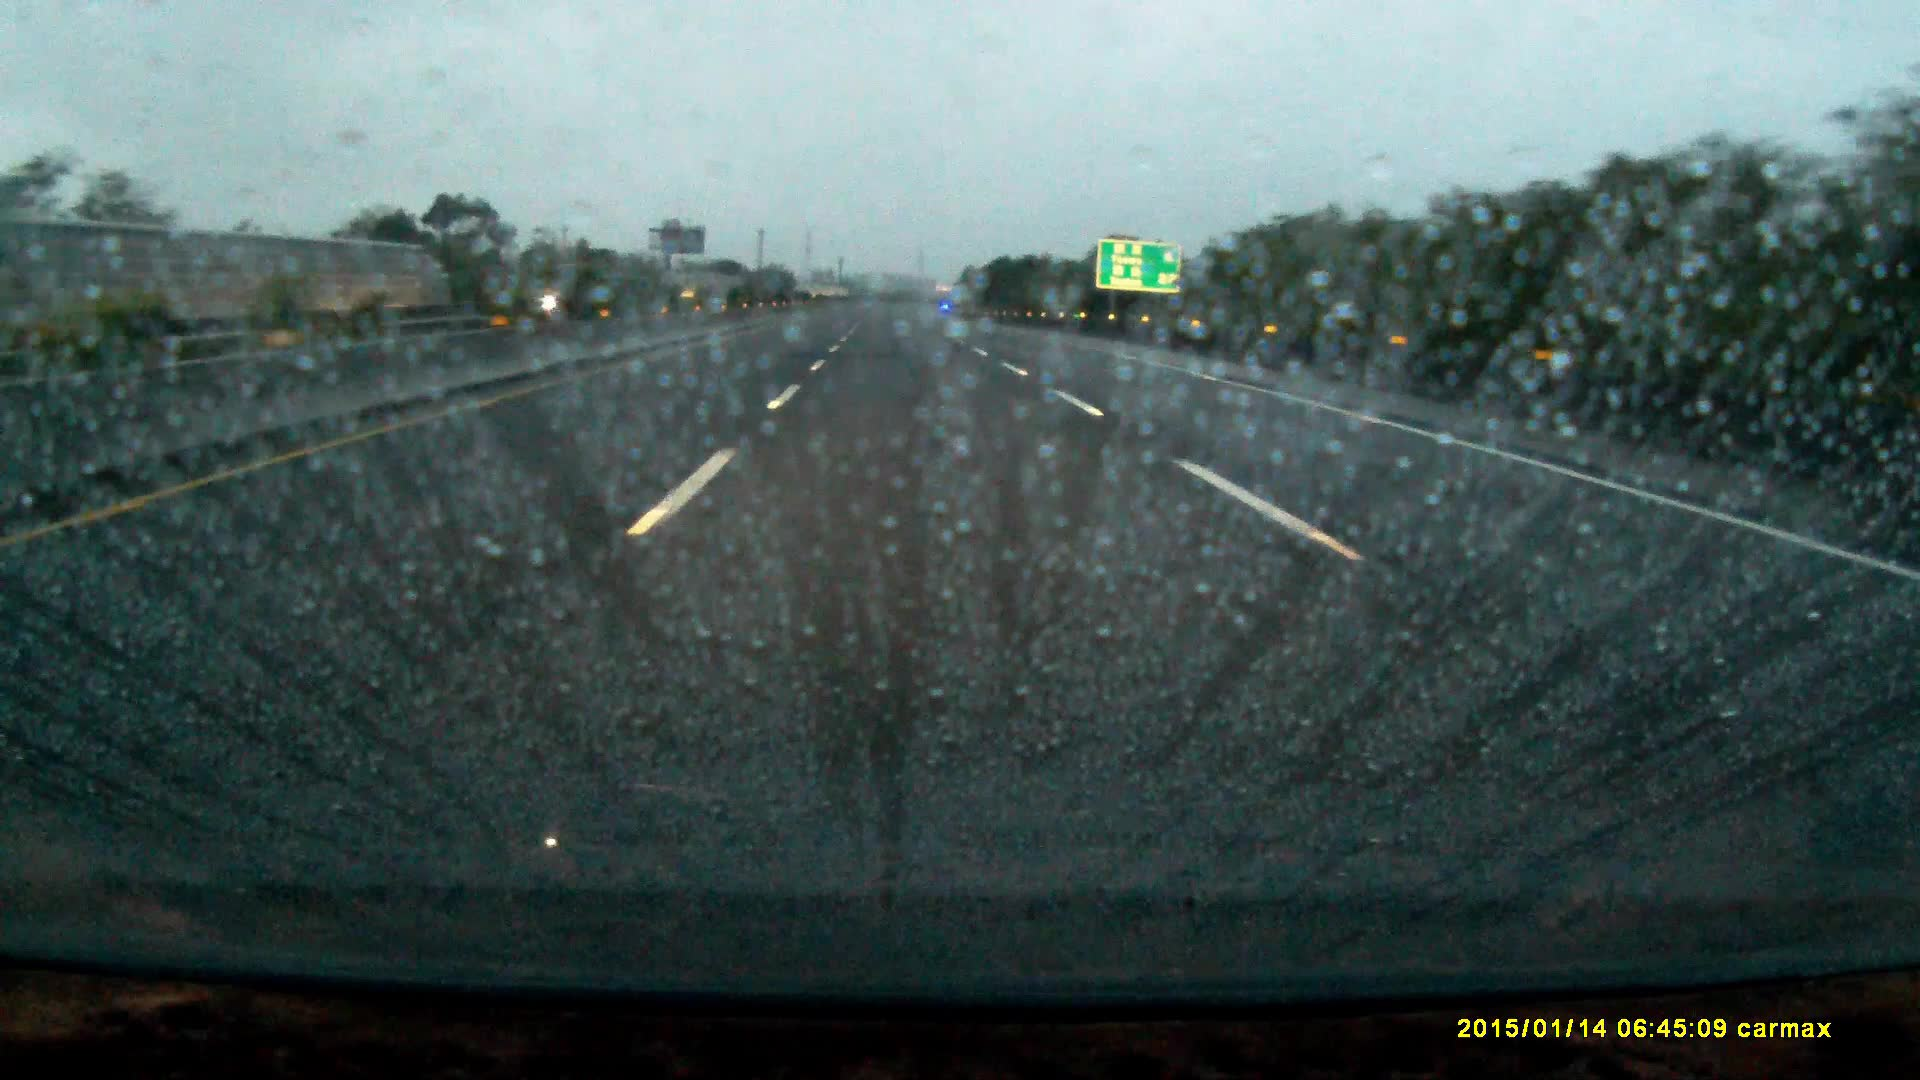vehicle: (545, 262, 628, 309)
